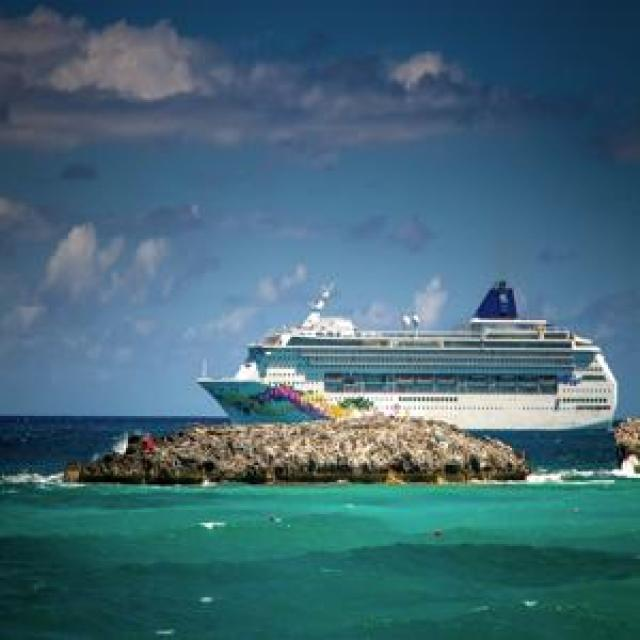passenger ship: (206, 294, 617, 456)
